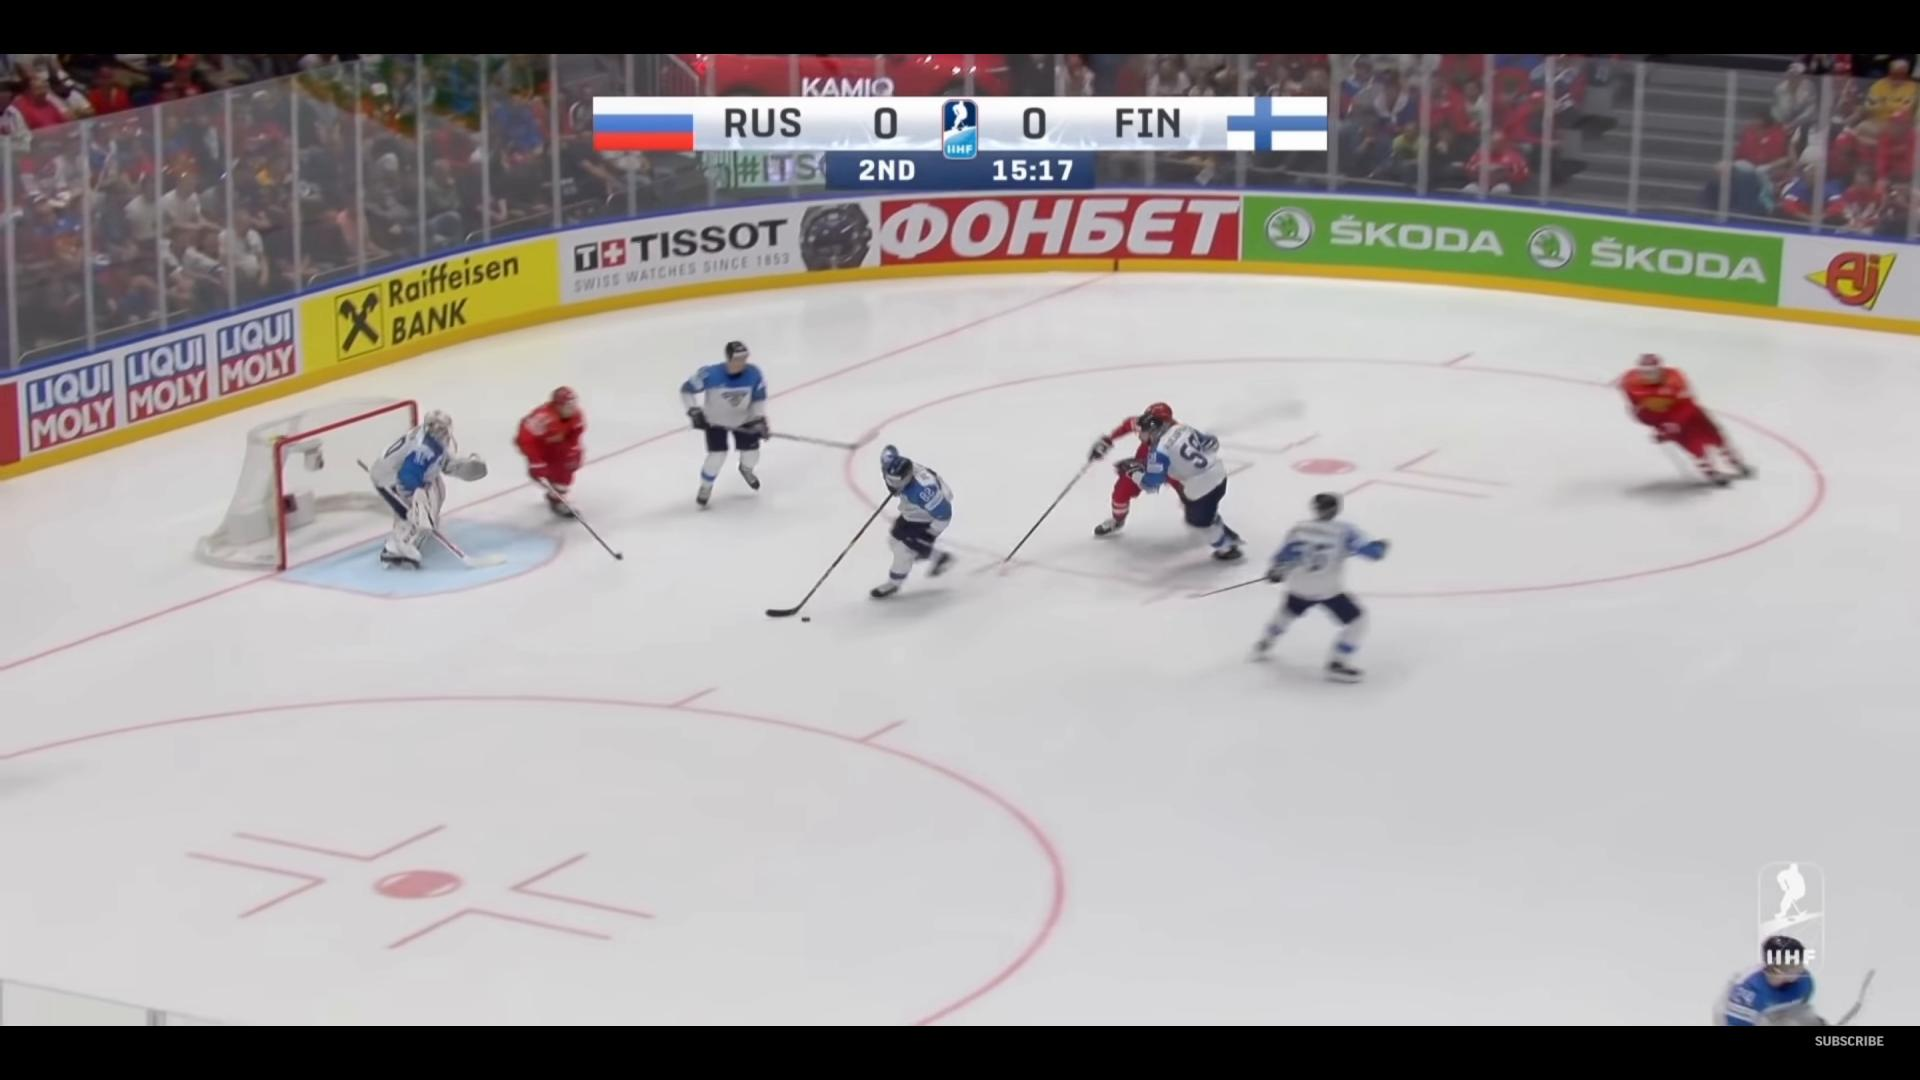puck: (800, 616, 810, 622)
